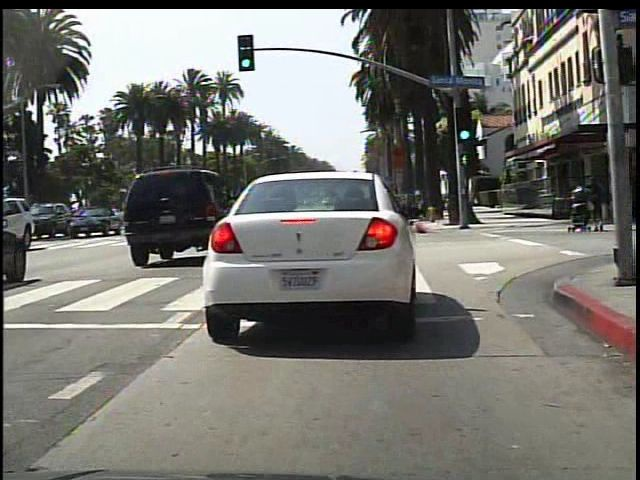person: (568, 160, 607, 239), (633, 141, 635, 280)
